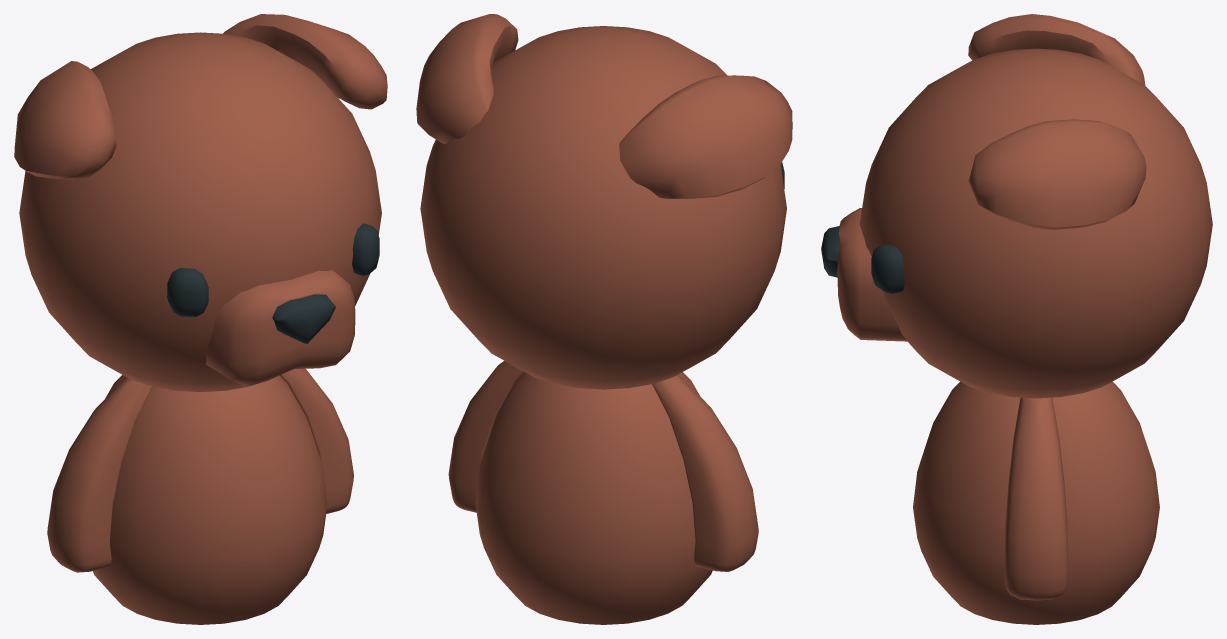
Rendered from bear.glb.
The picture shows the model from 3 angles, left to right: view 1: azimuth 30°, elevation 25°; view 2: azimuth 150°, elevation 25°; view 3: azimuth 270°, elevation 25°; orthographic projection. The views are drawn at different scales.
Visible parts, largest first — view 1: character_bearHead, character_bear, character_bearArmRight, character_bearArmLeft; view 2: character_bearHead, character_bear, character_bearArmRight, character_bearArmLeft; view 3: character_bearHead, character_bear, character_bearArmLeft.
Boxes of the visible parts, x1,y1,x2,y2 form: character_bearHead: (14, 14, 387, 391); character_bear: (93, 375, 327, 624); character_bearArmRight: (47, 377, 152, 572); character_bearArmLeft: (280, 368, 353, 513); character_bearHead: (416, 14, 792, 389); character_bear: (475, 372, 712, 624); character_bearArmRight: (652, 374, 758, 571); character_bearArmLeft: (448, 361, 523, 512); character_bearHead: (821, 14, 1212, 398); character_bear: (913, 381, 1159, 624); character_bearArmLeft: (1004, 397, 1068, 600).
Size of the model in its own units: 1.1 by 1.64 by 1.11.
